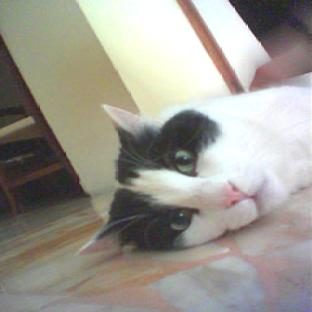Animal: (81, 86, 311, 252)
